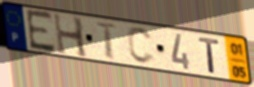4: (171, 33, 191, 71)
C: (126, 26, 157, 66)
E: (24, 8, 58, 55)
H: (52, 11, 90, 60)
T: (94, 21, 120, 61), (198, 36, 222, 76)
